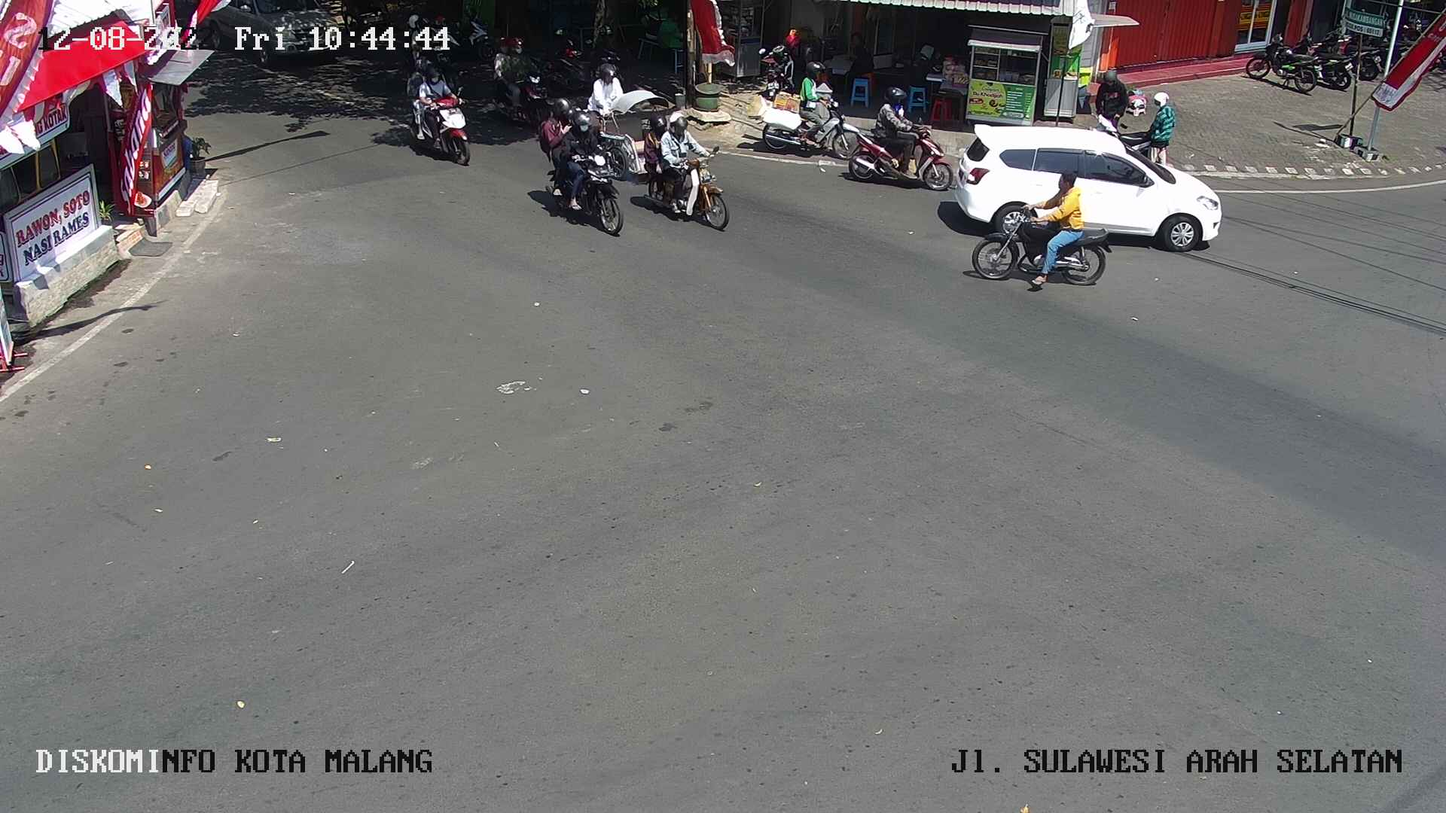with_helmet: (632, 105, 744, 243), (838, 76, 947, 198), (526, 93, 617, 239), (388, 53, 481, 168), (759, 55, 843, 160)
without_helmet: (957, 170, 1119, 294)
